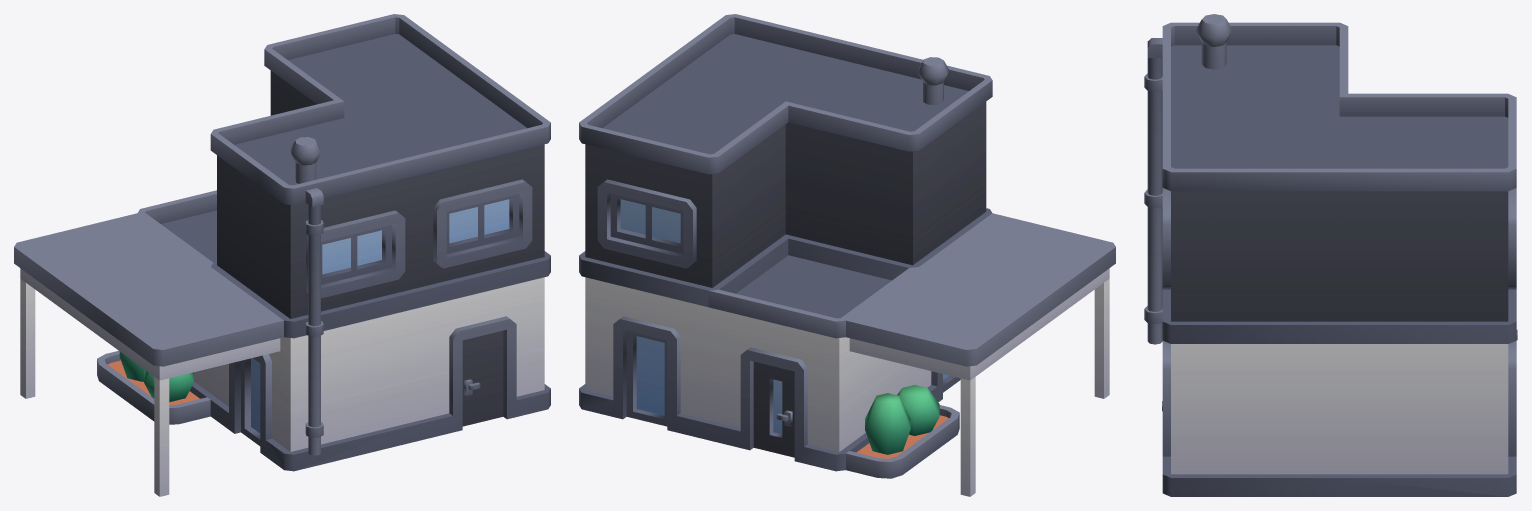
The model's file is sub-building-type-q.glb.
3 views of the same model, side by side, from view 1: azimuth 30°, elevation 25°; view 2: azimuth 150°, elevation 25°; view 3: azimuth 270°, elevation 25° (orthographic). The views are drawn at different scales.
Visible parts, largest first — view 1: building-type-q; view 2: building-type-q; view 3: building-type-q.
Boxes of the visible parts, box(x1,y1,x2,y2) form: building-type-q: box(14, 14, 550, 496); building-type-q: box(579, 14, 1115, 496); building-type-q: box(1144, 14, 1517, 496).
Size of the model in its own units: 12.4 by 9.18 by 8.86.
Materials: 1 (1 with a texture image).
